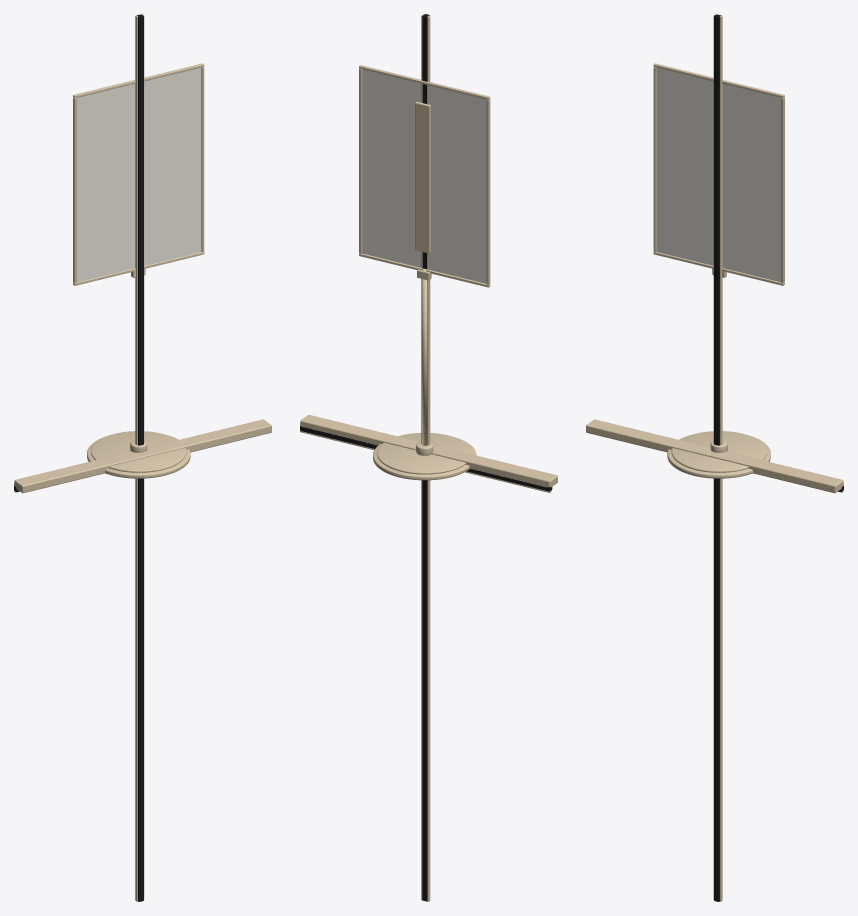
Rendered from cote-porte.glb.
The picture shows the model from 3 angles, left to right: view 1: azimuth 30°, elevation 25°; view 2: azimuth 150°, elevation 25°; view 3: azimuth 330°, elevation 25°; orthographic projection.
Parts seen in each view (by area): view 1: Pancarte_Affiche, Ecran_Montant, Pancarte, Ecran_Seuil; view 2: Pancarte_Affiche, Pancarte, Ecran_Montant, Ecran_Seuil, Ecran_Traverse; view 3: Pancarte_Affiche, Ecran_Montant, Pancarte, Ecran_Seuil.
Part boxes in pixels (x1,y1,x2,y2): Pancarte_Affiche: (77, 67, 201, 281); Ecran_Montant: (135, 14, 144, 901); Pancarte: (73, 63, 204, 478); Ecran_Seuil: (14, 419, 271, 493); Pancarte_Affiche: (362, 69, 486, 283); Pancarte: (359, 65, 490, 480); Ecran_Montant: (421, 14, 430, 901); Ecran_Seuil: (300, 415, 557, 487); Ecran_Traverse: (300, 425, 552, 492); Pancarte_Affiche: (656, 67, 780, 281); Ecran_Montant: (713, 14, 722, 901); Pancarte: (653, 63, 784, 478); Ecran_Seuil: (586, 419, 843, 493).
Size of the model in its own units: 1 by 3.38 by 0.36.
